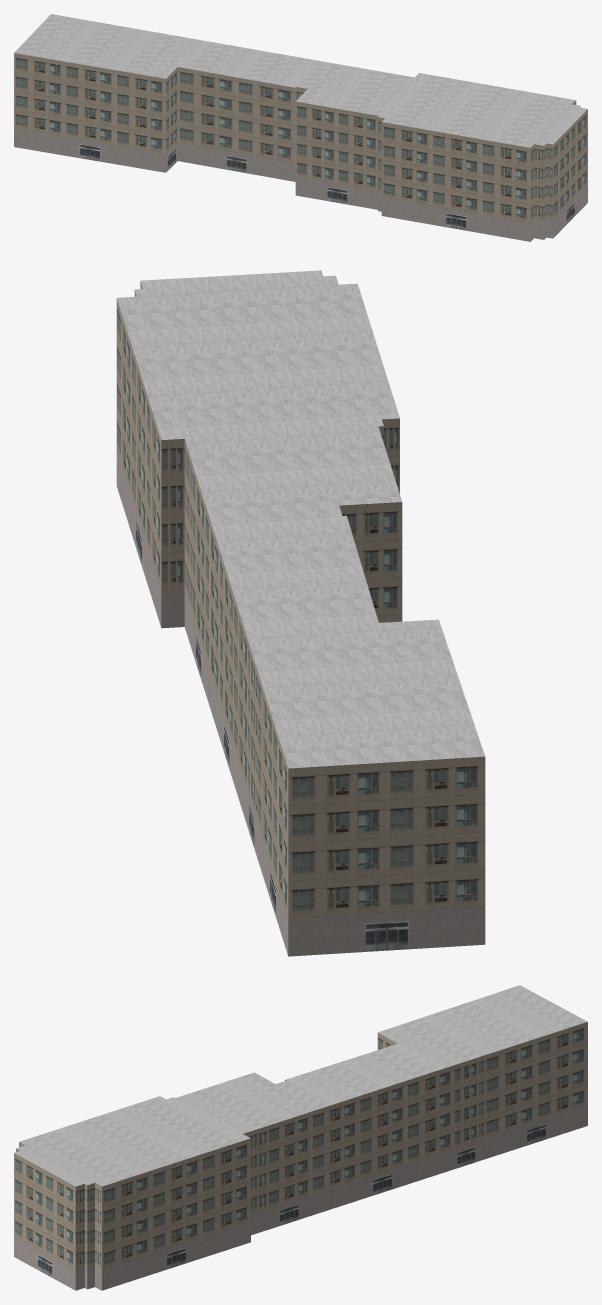
3 views of the same model, one above another, from view 1: azimuth 30°, elevation 25°; view 2: azimuth 150°, elevation 25°; view 3: azimuth 270°, elevation 25° (orthographic). The views are drawn at different scales.
Parts seen in each view (by area): view 1: BuildingMaster_1978193219484463078900000000_0, BuildingMaster_1978193219484463078900000000_1; view 2: BuildingMaster_1978193219484463078900000000_1, BuildingMaster_1978193219484463078900000000_0; view 3: BuildingMaster_1978193219484463078900000000_0, BuildingMaster_1978193219484463078900000000_1.
Part boxes in pixels (x1,y1,x2,y2): BuildingMaster_1978193219484463078900000000_0: (14,53,587,241); BuildingMaster_1978193219484463078900000000_1: (14,14,587,147); BuildingMaster_1978193219484463078900000000_1: (116,270,485,768); BuildingMaster_1978193219484463078900000000_0: (116,281,485,956); BuildingMaster_1978193219484463078900000000_0: (14,1022,587,1290); BuildingMaster_1978193219484463078900000000_1: (14,985,587,1186).
Bounding box in the file's own units: 72.71 × 17.5 × 87.49.
2 materials, 2 textured.
